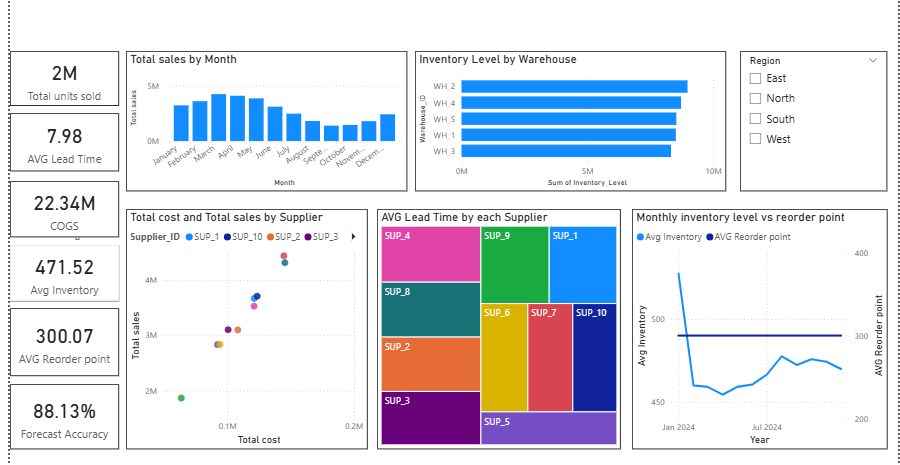

What the dashboard file says about the page in this screenshot:
{"tool":"powerbi","page":{"name":"Inventory Performance Overview ","canvas":[1280,720],"ordinal":1},"visuals":[{"type":"card","fields":{"Values":["Table 1.Total units sold"]},"box":[0,102.2,157,79.2],"z":0},{"type":"card","fields":{"Values":["Table 1.Avg lead time avg function"]},"box":[0,191.5,157,83.5],"z":1000},{"type":"barChart","title":"Inventory Level by Warehouse ","fields":{"Category":["Table 1.Warehouse_ID"],"Y":["Sum(Table 1.Inventory_Level)"]},"box":[583.2,102.2,447.8,201.6],"z":2000},{"type":"clusteredColumnChart","fields":{"Category":["Table 1.Date.Variation.Date Hierarchy.Month","Table 1.Date.Variation.Date Hierarchy.Day"],"Y":["Table 1.Total sales"]},"box":[167,102.2,404.6,201.6],"z":3000},{"type":"scatterChart","title":"Total cost and Total sales by Supplier","fields":{"Y":["Table 1.Total sales"],"X":["Table 1.Total cost"],"Series":["Table 1.Supplier_ID"]},"box":[167,329.8,348.5,345.6],"z":4000},{"type":"card","fields":{"Values":["Table 1.Avg Inventory"]},"box":[0,381.6,157,80.6],"z":5000},{"type":"treemap","title":"AVG Lead Time by each Supplier ","fields":{"Group":["Table 1.Supplier_ID"],"Values":["Table 1.AVG Lead Time"]},"box":[528.5,329.8,351.4,345.6],"z":6000},{"type":"slicer","fields":{"Values":["Table 1.Region"]},"box":[1051.2,102.2,211.7,201.6],"z":7000},{"type":"card","fields":{"Values":["Table 1.Avg reorer point"]},"box":[0,472.3,157,97.9],"z":8000},{"type":"card","fields":{"Values":["Table 1.COGS"]},"box":[0,289.4,157,80.6],"z":9000},{"type":"lineChart","title":"Monthly inventory level vs reorder point ","fields":{"Category":["Table 1.Date.Variation.Date Hierarchy.Year","Table 1.Date.Variation.Date Hierarchy.Month"],"Y2":["Table 1.AVG Reorder point"],"Y":["Table 1.Avg Inventory"]},"box":[895.3,329.2,367.9,346],"z":10000},{"type":"card","fields":{"Values":["Table 1.Forecast Error %"]},"box":[0,581.8,157,93.6],"z":11000}]}

Visuals, with their boxes in screenshot pixels (x1, y1, x2, y2):
card - Table 1.Total units sold: Rect(7, 51, 114, 105)
card - Table 1.Avg lead time avg function: Rect(7, 112, 114, 169)
"Inventory Level by Warehouse " barChart: Rect(405, 51, 711, 189)
clusteredColumnChart - Table 1.Date.Variation.Date Hierarchy.Month x Table 1.Date.Variation.Date Hierarchy.Day: Rect(121, 51, 398, 189)
"Total cost and Total sales by Supplier" scatterChart: Rect(121, 207, 359, 443)
card - Table 1.Avg Inventory: Rect(7, 242, 114, 297)
"AVG Lead Time by each Supplier " treemap: Rect(368, 207, 608, 443)
slicer - Table 1.Region: Rect(725, 51, 870, 189)
card - Table 1.Avg reorer point: Rect(7, 304, 114, 371)
card - Table 1.COGS: Rect(7, 179, 114, 234)
"Monthly inventory level vs reorder point " lineChart: Rect(619, 206, 870, 443)
card - Table 1.Forecast Error %: Rect(7, 379, 114, 443)
